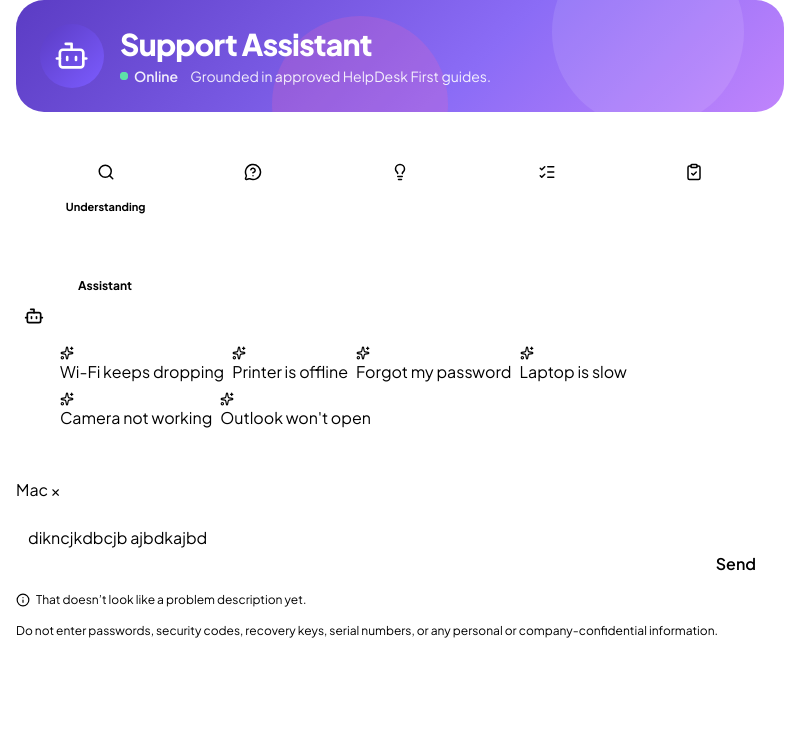
AssistantWorkspace › shows an alert for keyboard mashing and never sends it
This screenshot has width=801, height=745.
Expected: the text "That doesn’t look like a problem description yet." is shown, [16, 592, 306, 608]
Click the button "Send".
click(736, 564)  # box [688, 542, 784, 586]
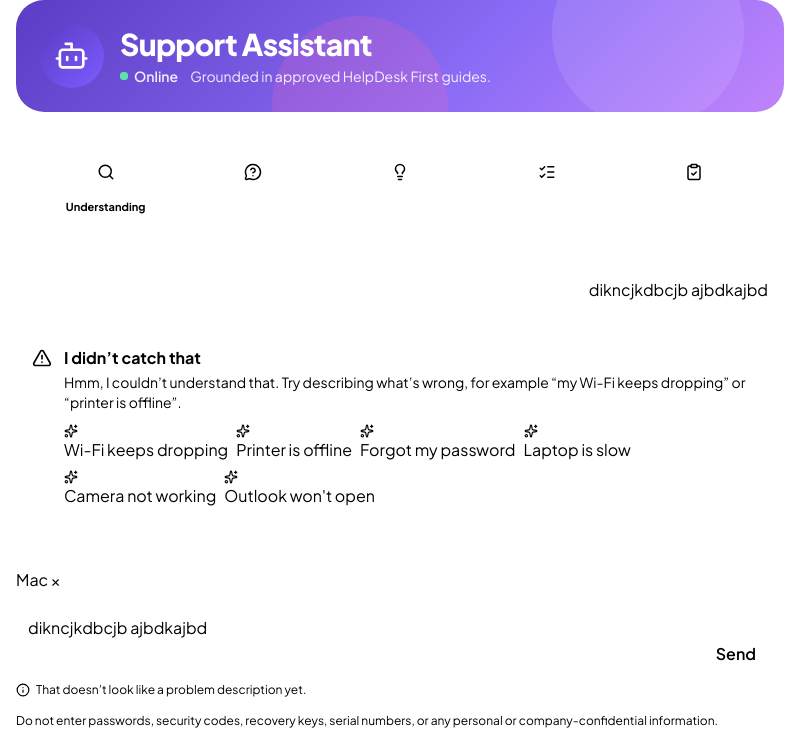
Result: the message shows "Hmm, I couldn’t understand that." at [64, 373, 745, 411]
